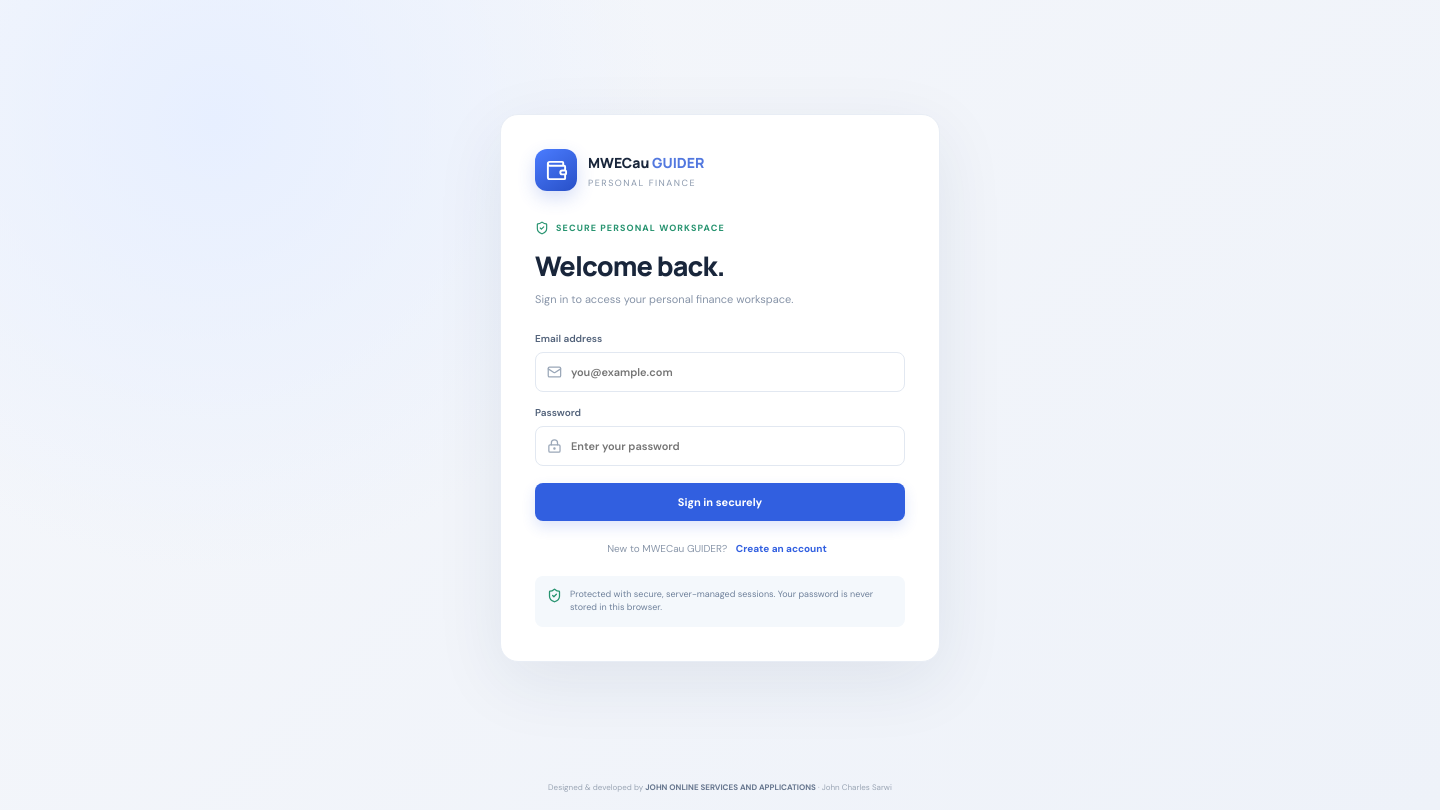
Test case: MWECau GUIDER live finance workspace › clears the signed-in account's offline data before server logout
Expected: the heading "Welcome back." is shown, [535,247,724,284]
Type "test@example.com" into the field labelled "Email address" at (732, 372), box [571,353,893,391]
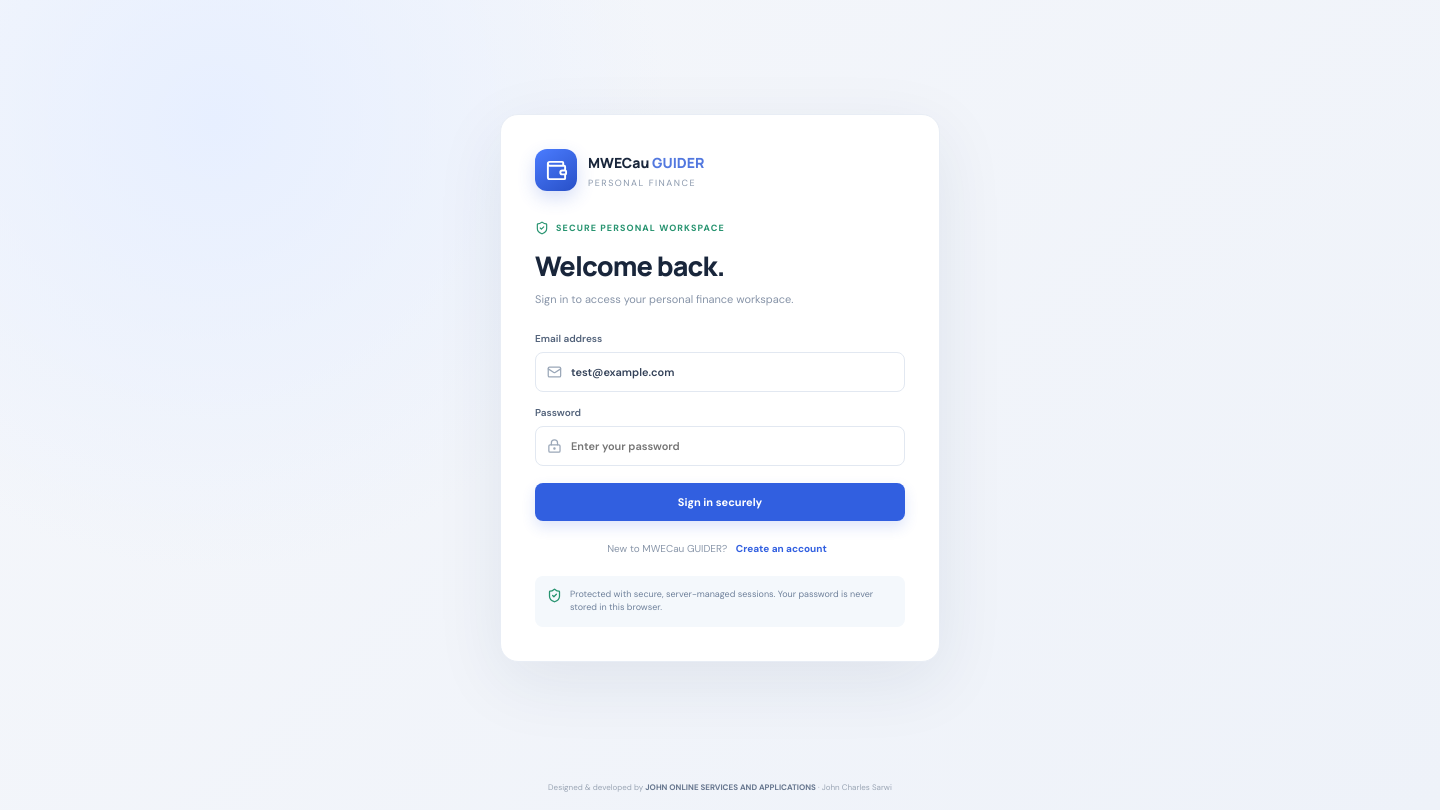
Type "test-password" into the password field labelled "Password" at (732, 446), box [571,427,893,465]
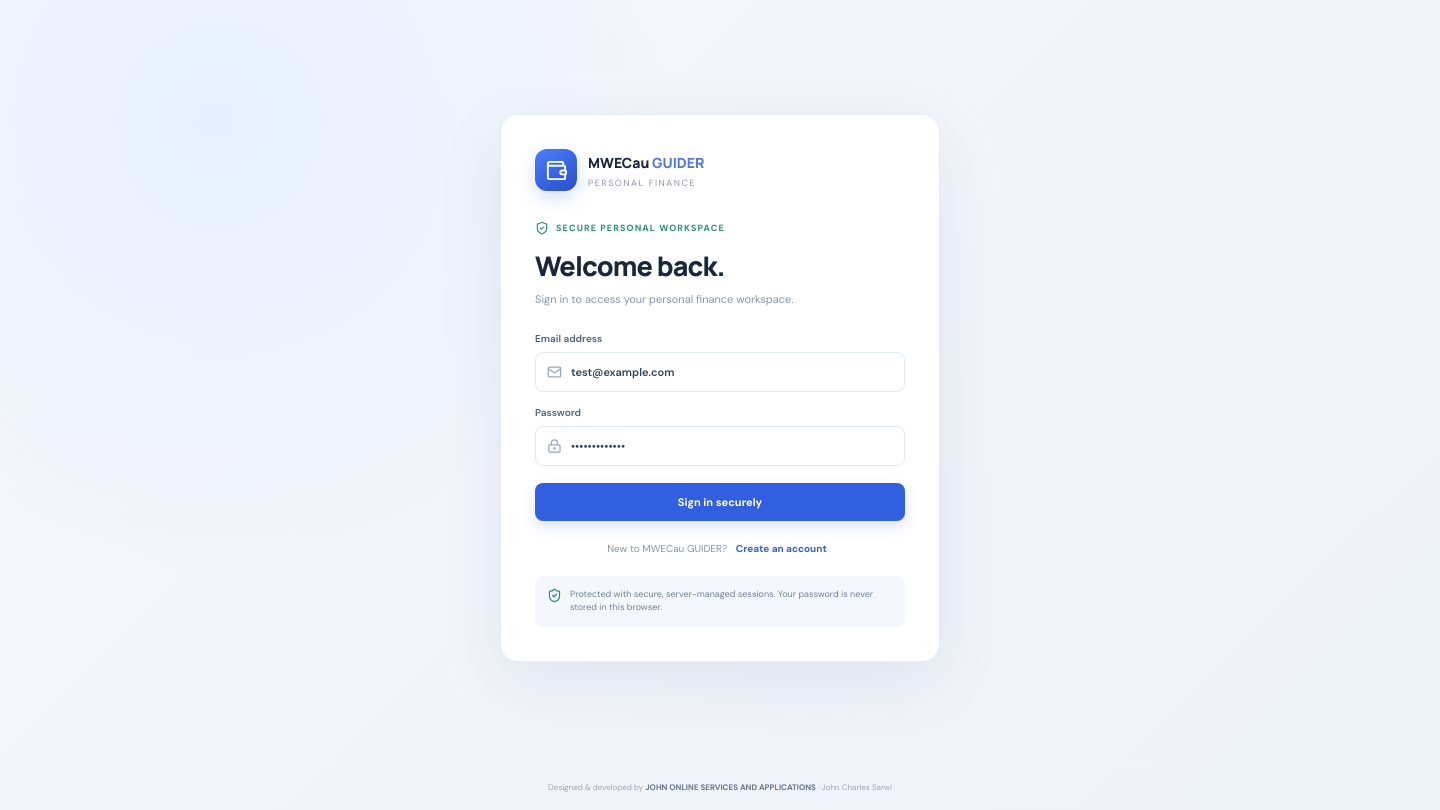
Click the button "Sign in securely" at (720, 502), box [535,483,905,521]
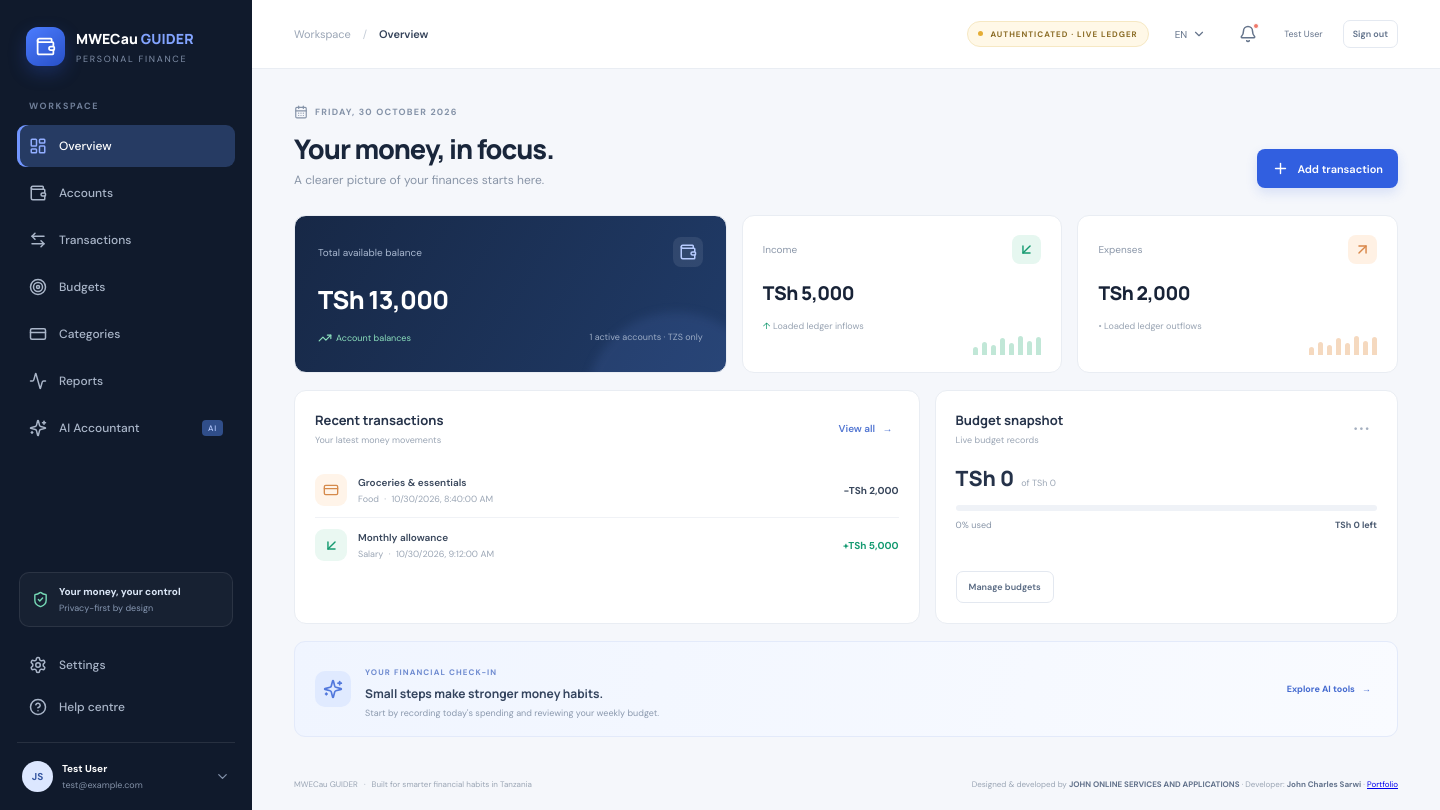
Expected: the heading "Your money, in focus." is shown, [294,130,554,167]
Expected: the text "Groceries & essentials" is shown, [358,476,466,488]
Click the button "Sign out" at (1370, 34), box [1343,20,1398,48]
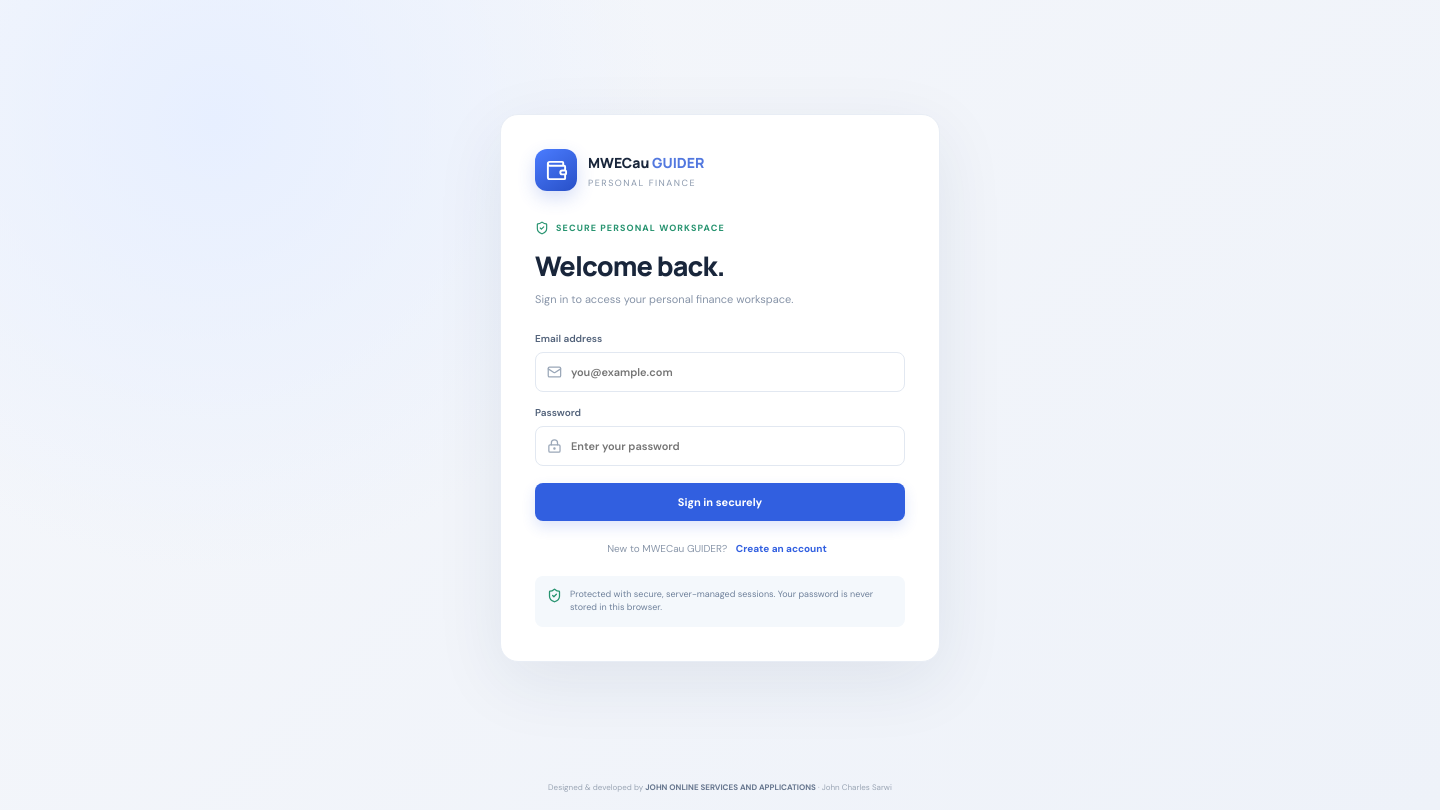
Expected: the heading "Welcome back." is shown, [535,247,724,284]
